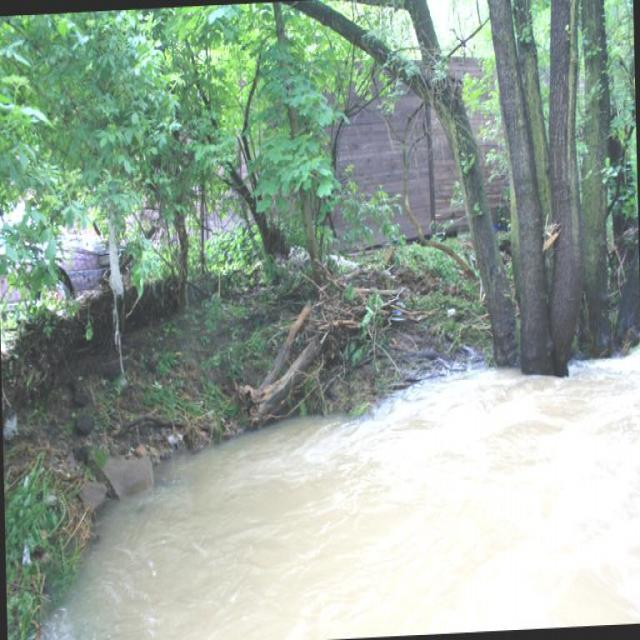flood: (1, 354, 639, 639)
